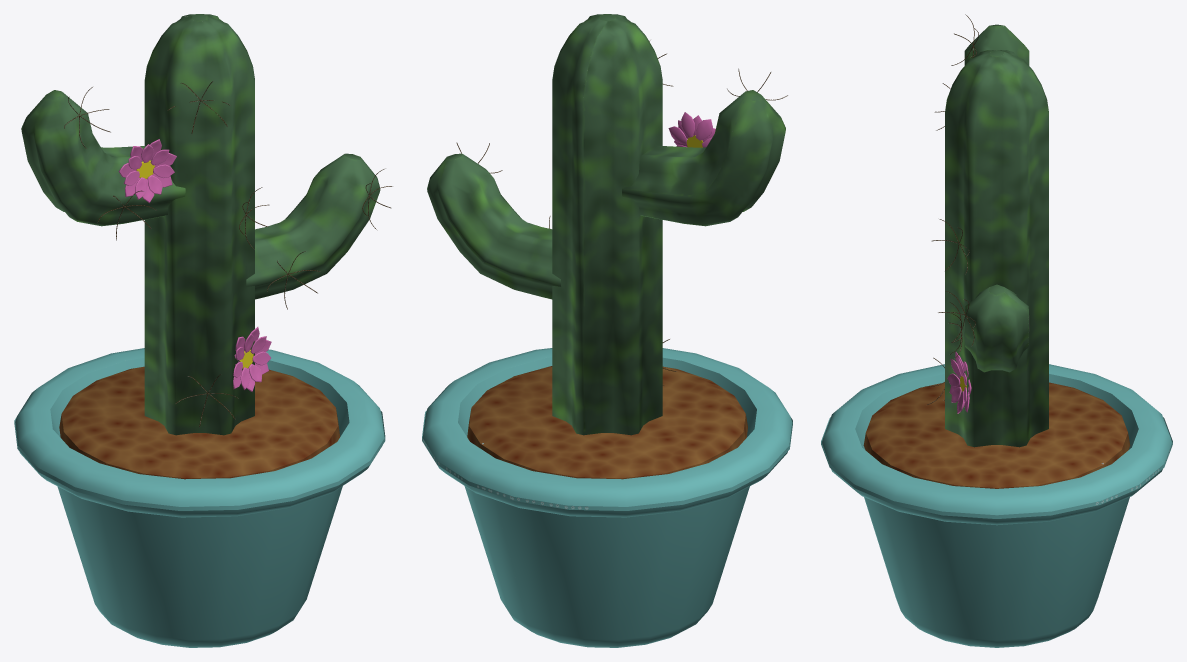
The model's file is MD_cactus.fbx.
The picture shows the model from 3 angles, left to right: view 1: azimuth 30°, elevation 25°; view 2: azimuth 150°, elevation 25°; view 3: azimuth 270°, elevation 25°; orthographic projection. The views are drawn at different scales.
Visible parts, largest first — view 1: CACTUS, vaso, terra, FIORE1, FIORE2, SPINI; view 2: CACTUS, vaso, terra, FIORE1; view 3: vaso, CACTUS, terra, FIORE2, SPINI.
Part boxes in pixels (left/top/right/bottom): CACTUS: left=21, top=14, right=380, bottom=435; vaso: left=14, top=348, right=385, bottom=647; terra: left=59, top=366, right=339, bottom=479; FIORE1: left=118, top=139, right=176, bottom=202; FIORE2: left=233, top=327, right=271, bottom=391; SPINI: left=64, top=81, right=392, bottom=427; CACTUS: left=427, top=14, right=785, bottom=435; vaso: left=422, top=348, right=792, bottom=647; terra: left=467, top=366, right=747, bottom=479; FIORE1: left=668, top=112, right=715, bottom=147; vaso: left=821, top=364, right=1172, bottom=647; CACTUS: left=945, top=24, right=1048, bottom=447; terra: left=863, top=382, right=1130, bottom=488; FIORE2: left=947, top=352, right=971, bottom=413; SPINI: left=925, top=14, right=978, bottom=404.
Bounding box in the file's own units: 185 × 297 × 169.
